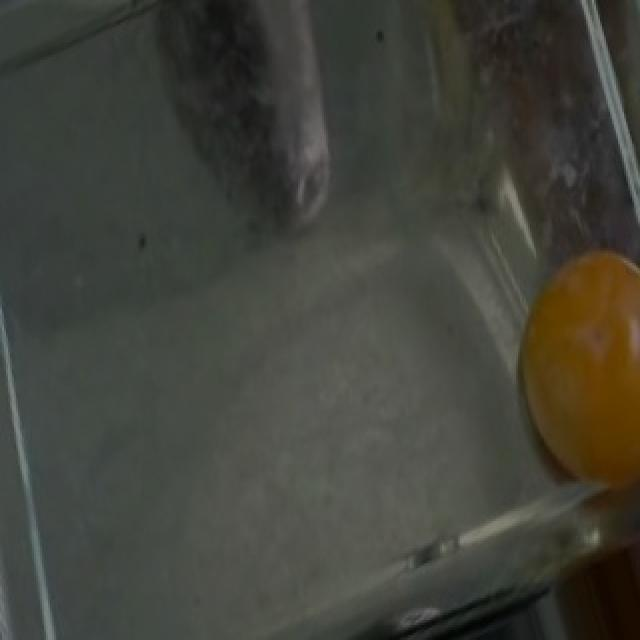Fruit: (488, 228, 640, 528)
